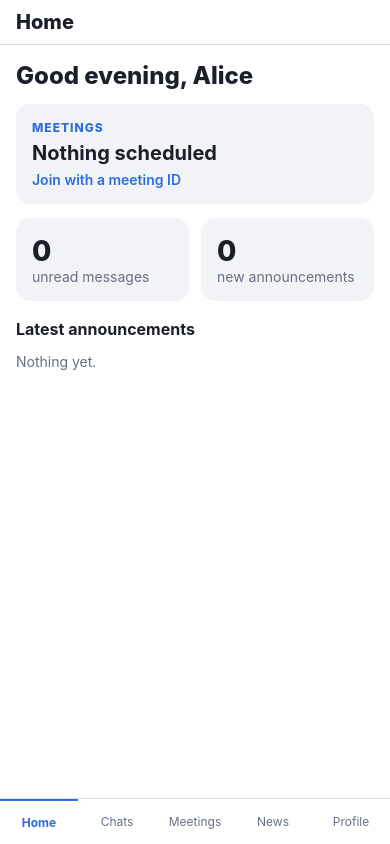
opening a chat and going back works
Expected: the text "Good evening, Alice" is shown, [16,61,253,90]
Click the tab with aria-label "Chats tab".
click(117, 822)  # box [101,814,133,829]
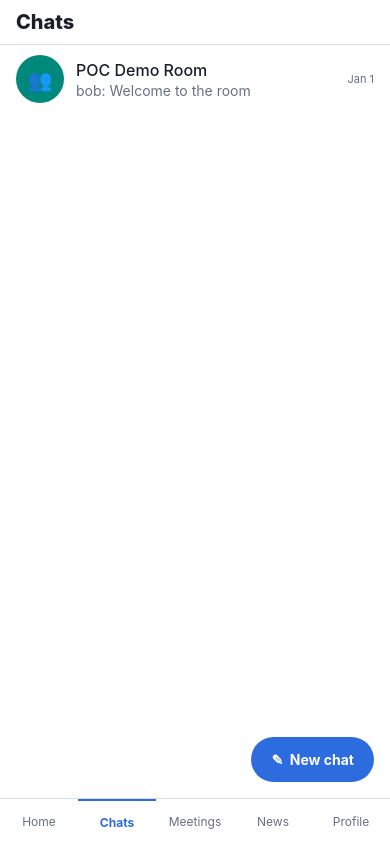
Now the text "POC Demo Room" is shown
Click the text "POC Demo Room".
click(142, 70)  # box [76,60,207,80]
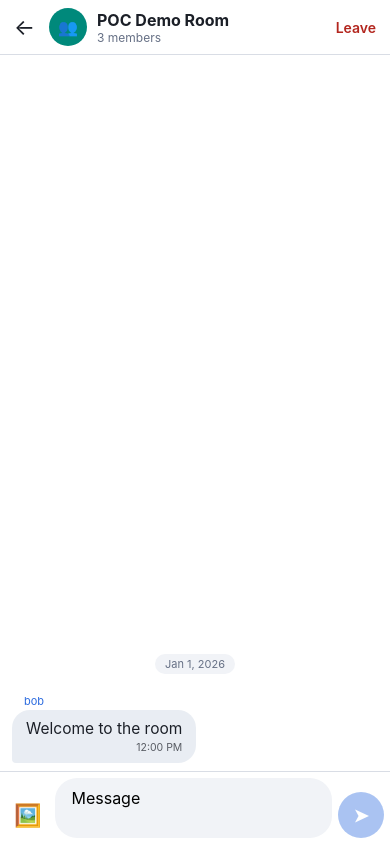
Now the text "Welcome to the room" is shown, box [26,719,182,738]
Click the element named "Back".
click(24, 27)  # box [14,14,35,40]
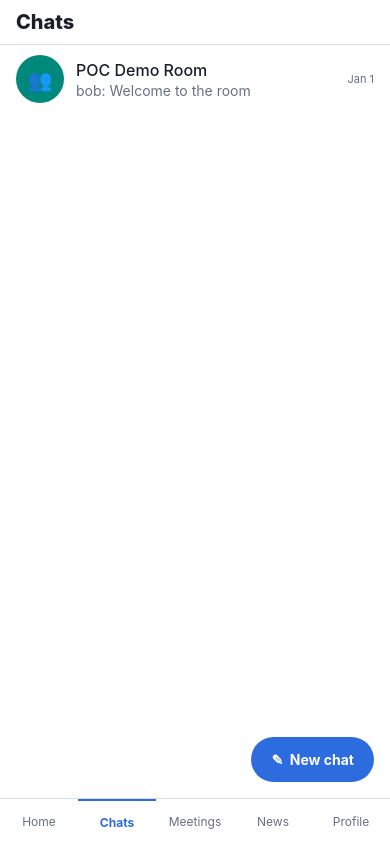
Now the text "bob: Welcome to the room" is shown, box [76,82,251,98]
